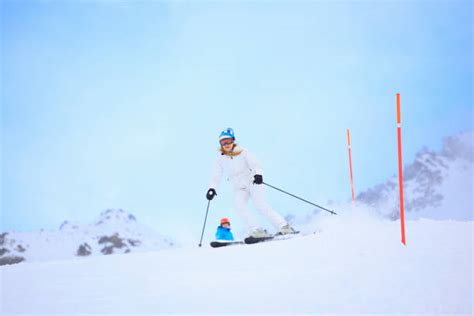skier: (192, 128, 339, 251)
